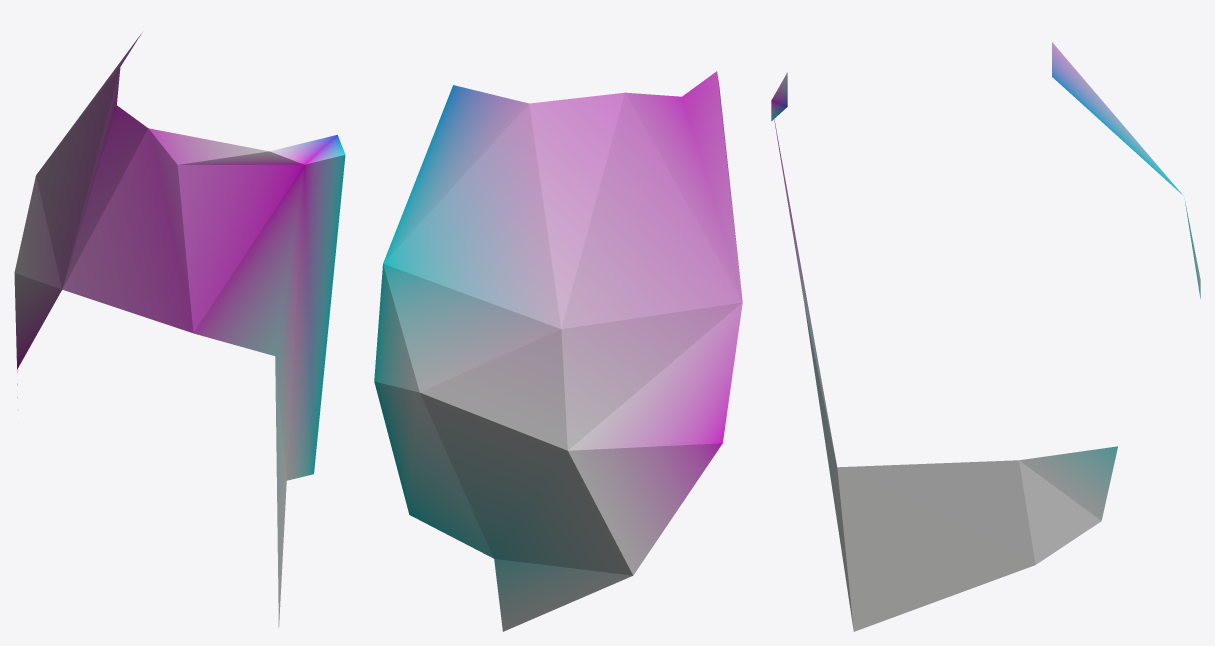
3 renders of one model, left to right at view 1: azimuth 30°, elevation 25°; view 2: azimuth 150°, elevation 25°; view 3: azimuth 270°, elevation 25°, orthographic. The views are drawn at different scales.
Parts seen in each view (by area): view 1: model_1183; view 2: model_1183; view 3: model_1183.
Part boxes in pixels (<box>): model_1183: <box>14,32,345,627</box>; model_1183: <box>374,71,742,631</box>; model_1183: <box>771,42,1200,631</box>.
Bounding box in the file's own units: 16 × 38 × 26.
